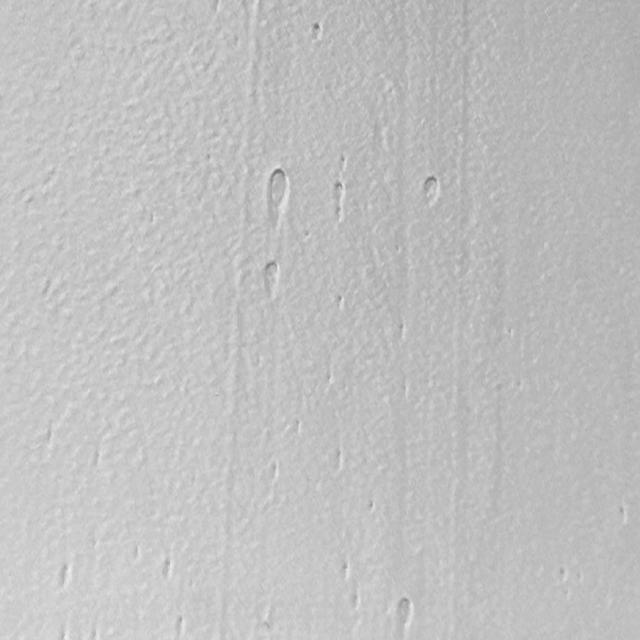pin holes: (264, 169, 291, 216), (259, 258, 283, 296), (392, 595, 415, 633), (326, 179, 346, 218), (420, 175, 443, 208), (55, 564, 75, 592), (615, 502, 634, 528), (329, 447, 348, 473), (158, 557, 176, 582), (173, 615, 191, 638), (266, 459, 282, 483), (310, 21, 324, 43), (348, 590, 362, 612), (340, 562, 353, 582), (556, 566, 569, 585), (337, 154, 348, 174), (334, 295, 347, 311)
